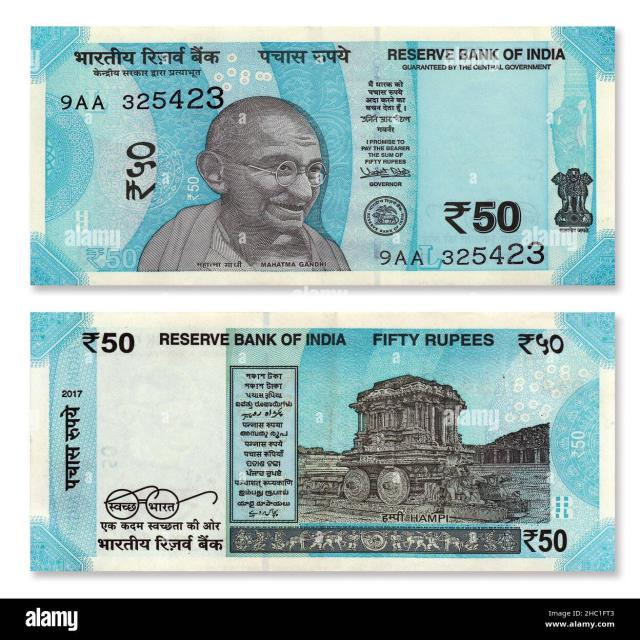50IndianRupees: (25, 316, 616, 571)
